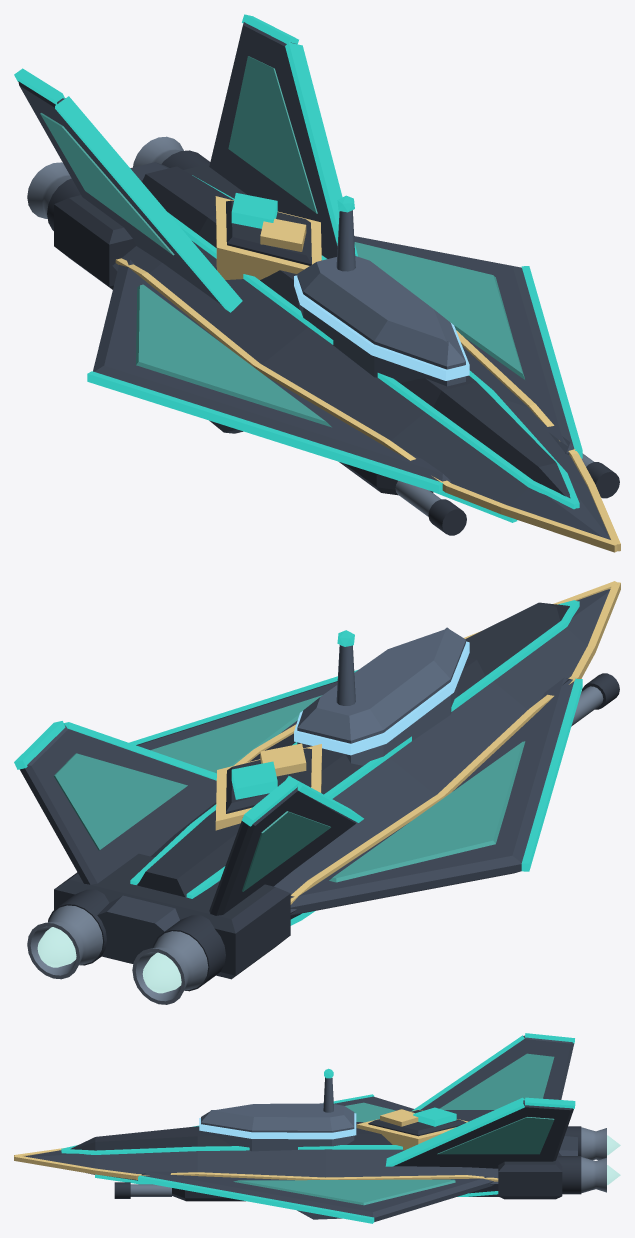
File: mirage.glb
The picture shows the model from 3 angles, top to bottom: view 1: azimuth 30°, elevation 25°; view 2: azimuth 150°, elevation 25°; view 3: azimuth 270°, elevation 25°; orthographic projection. The views are drawn at different scales.
Parts seen in each view (by area): view 1: mirage; view 2: mirage; view 3: mirage.
Part boxes in pixels (box(x1,y1,x2,y2)): mirage: box(14, 14, 620, 552); mirage: box(14, 581, 620, 1004); mirage: box(14, 1033, 620, 1223).
Bounding box in the file's own units: 4.62 × 2.24 × 9.49.
